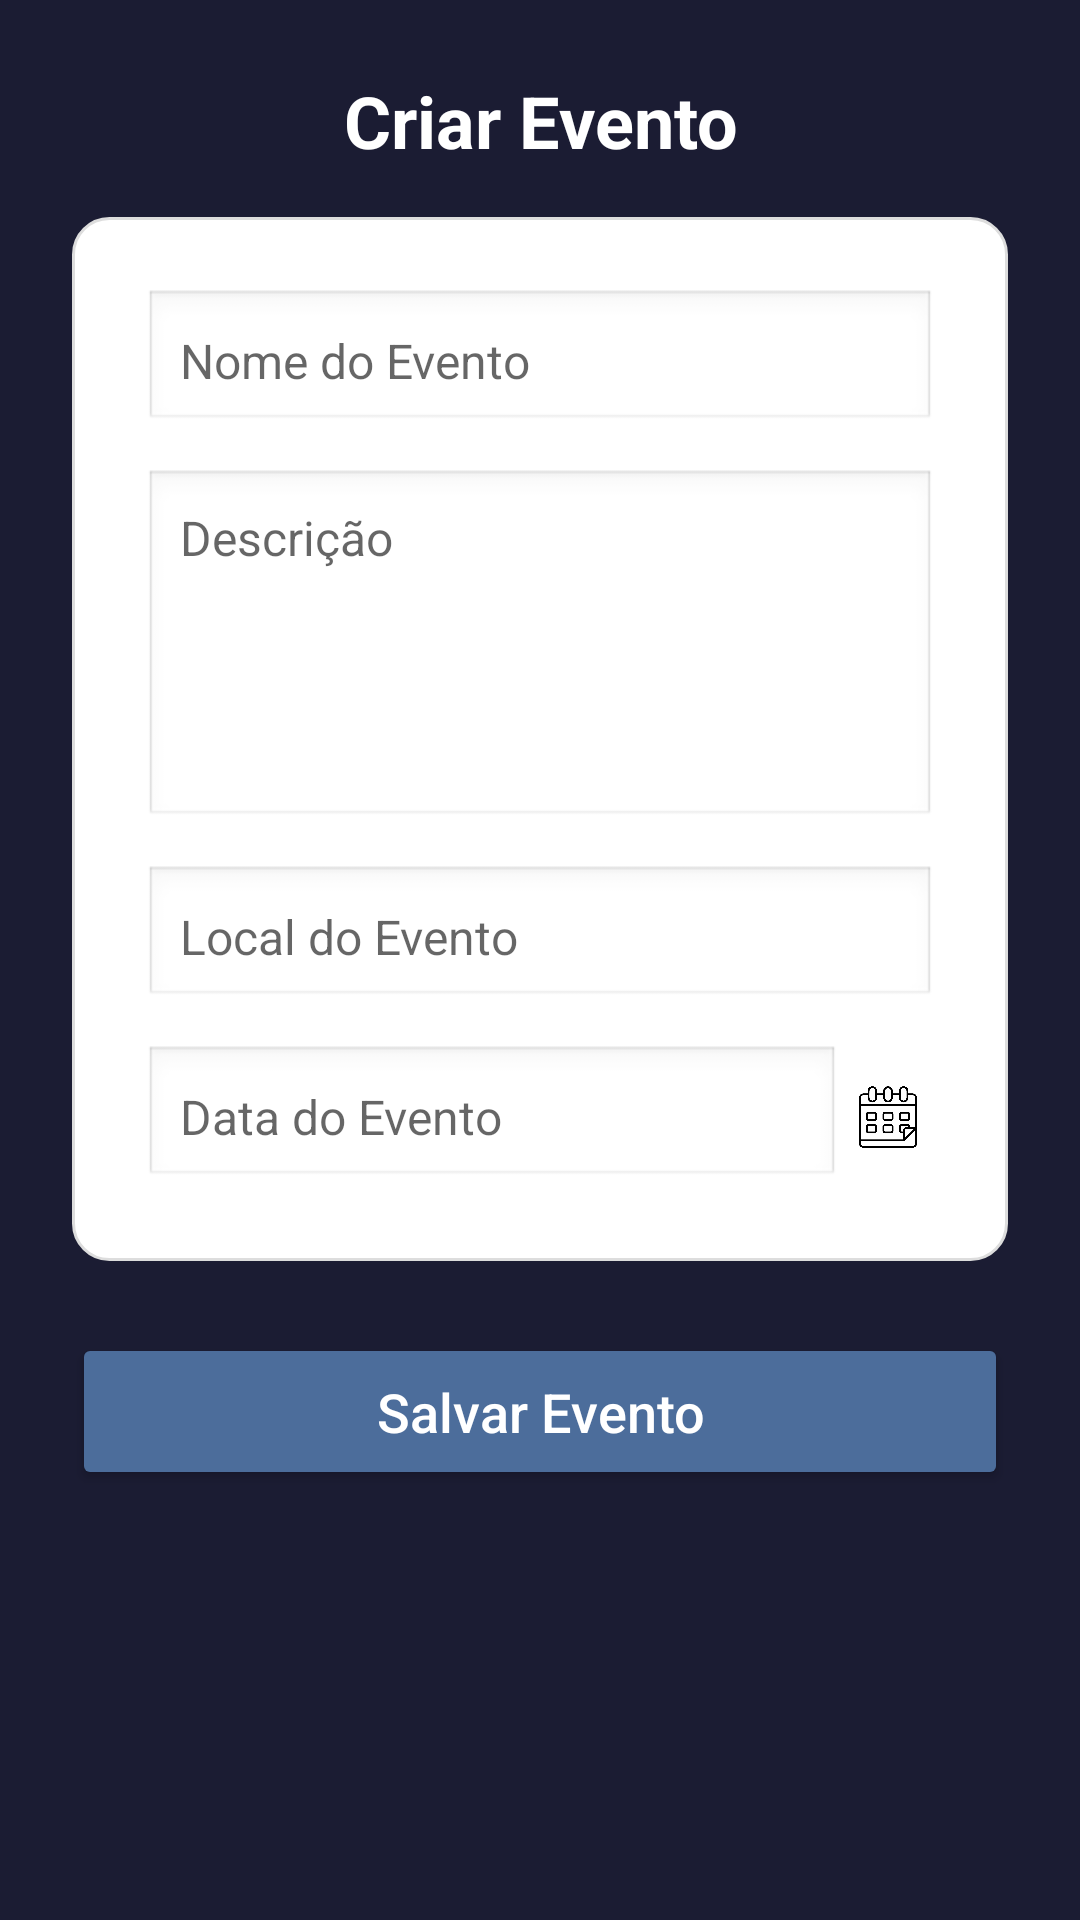

Where to tap for icons on this 1080px x 1920px app screen, as (x,y):
calendario: (888,1117)
